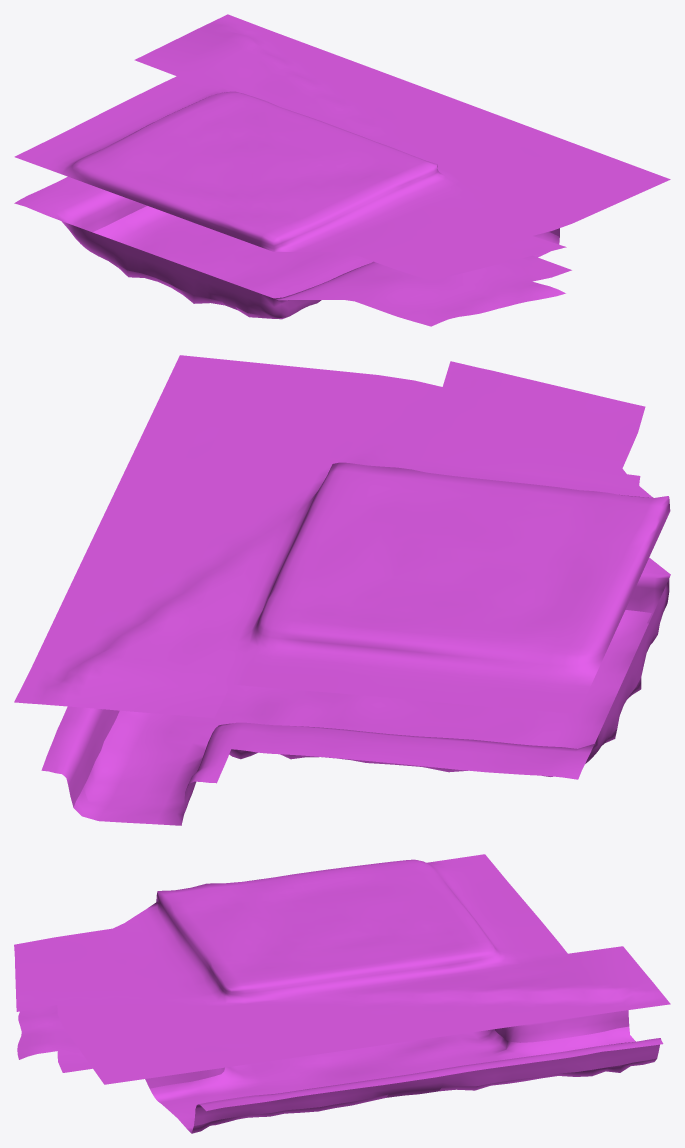
Rendered from Unique 2.fbx.
3 views of the same model, one above another, from view 1: azimuth 30°, elevation 25°; view 2: azimuth 150°, elevation 25°; view 3: azimuth 270°, elevation 25° (orthographic). The views are drawn at different scales.
Parts seen in each view (by area): view 1: Unique_002, Unique_002.001; view 2: Unique_002, Unique_002.001; view 3: Unique_002, Unique_002.001.
Part boxes in pixels (bbox=[...]): Unique_002: bbox=[14, 14, 670, 326]; Unique_002.001: bbox=[92, 206, 559, 319]; Unique_002: bbox=[14, 355, 670, 814]; Unique_002.001: bbox=[73, 610, 656, 825]; Unique_002: bbox=[14, 854, 670, 1125]; Unique_002.001: bbox=[150, 1026, 656, 1133].
Bounding box in the file's own units: 984 × 190 × 1181.
